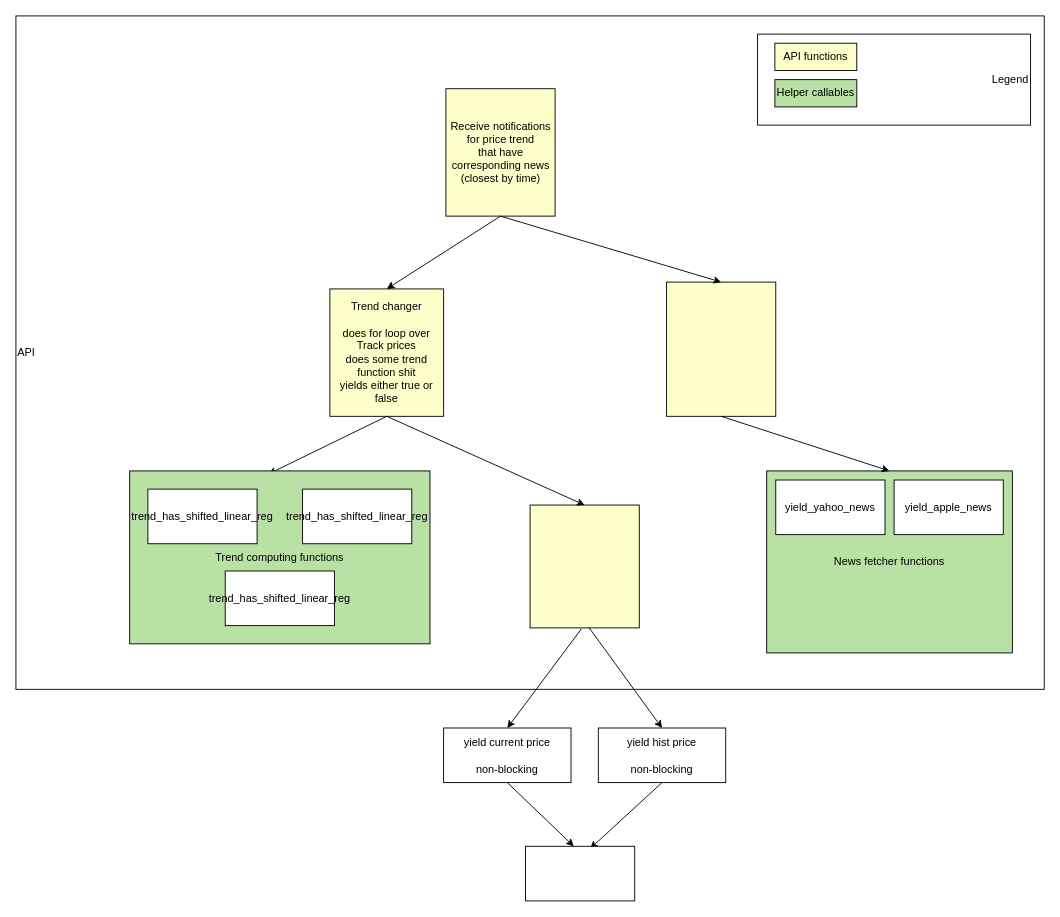
Image size: 1060x917. Some labels were removed from this diagram. Here are the shapes that lost their labels. From the top down, the centre of each, then its label:
At point (721, 348): "NewsCollectionAPI Stores news from different sources by time".
At point (584, 566): "Track prices busy loop returns price every nth period".
At point (580, 873): "yahoo api".
